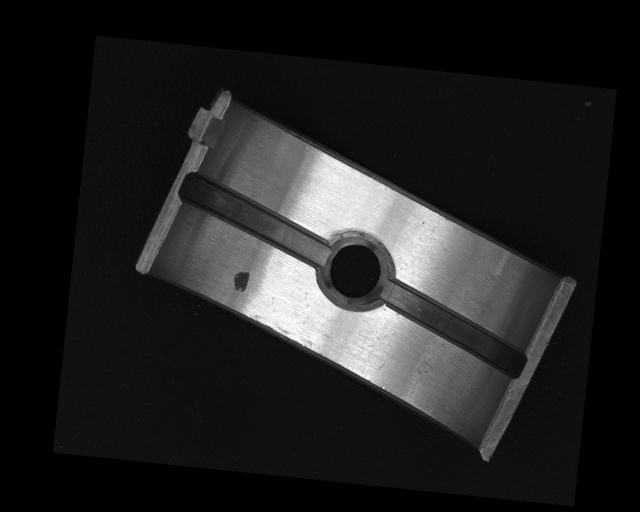blot: (231, 267, 250, 293)
gap: (373, 276, 534, 378), (175, 171, 334, 270)
hole: (321, 229, 390, 307)
